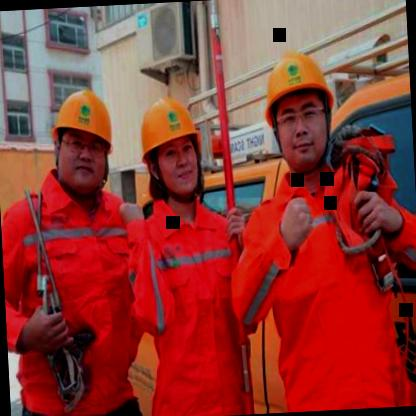helmet: (254, 40, 343, 180), (40, 72, 124, 205), (130, 83, 210, 208)
